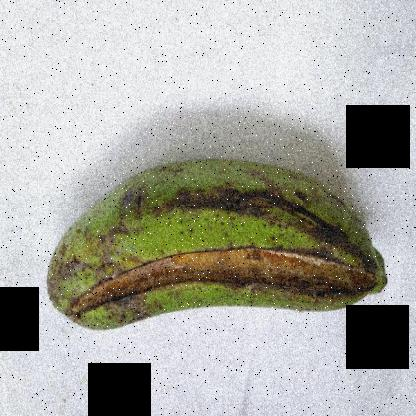rotten: (12, 171, 399, 357)
